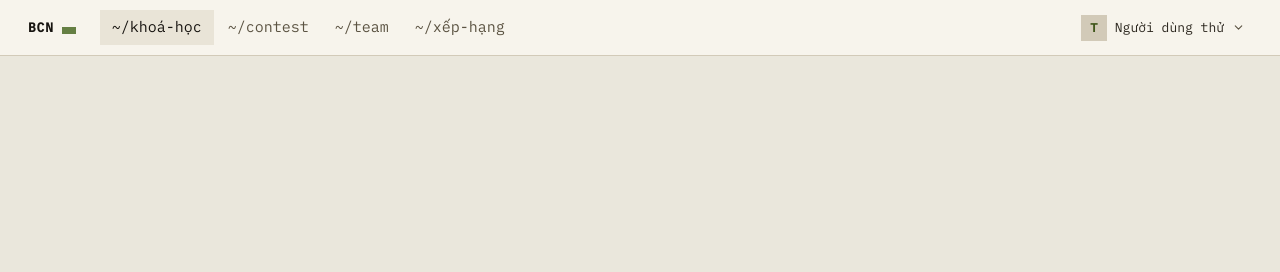
TopBar — đổi theme › mục đổi theme nói rõ nó sẽ chuyển sang bên nào
The image size is (1280, 272).
What coordinates should you click on to do the following:
click the button "T Người dùng thử"
I would click on:
 (1163, 28)
Its box is [1074,10,1252,46].
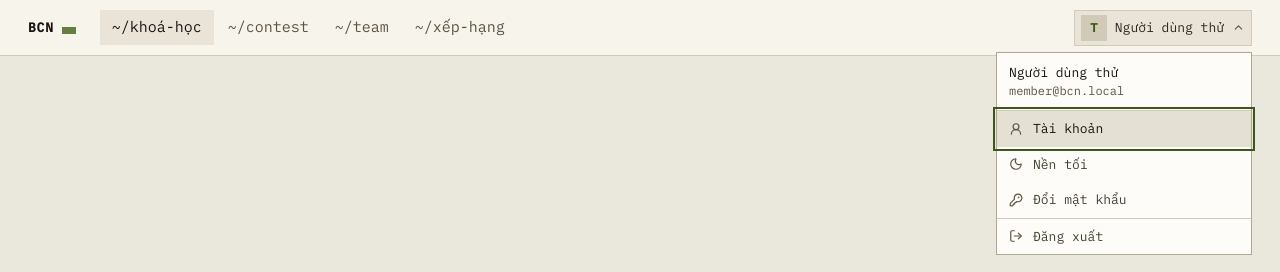
Result: the menu item "Nền tối" is shown at [997,146,1251,182]
